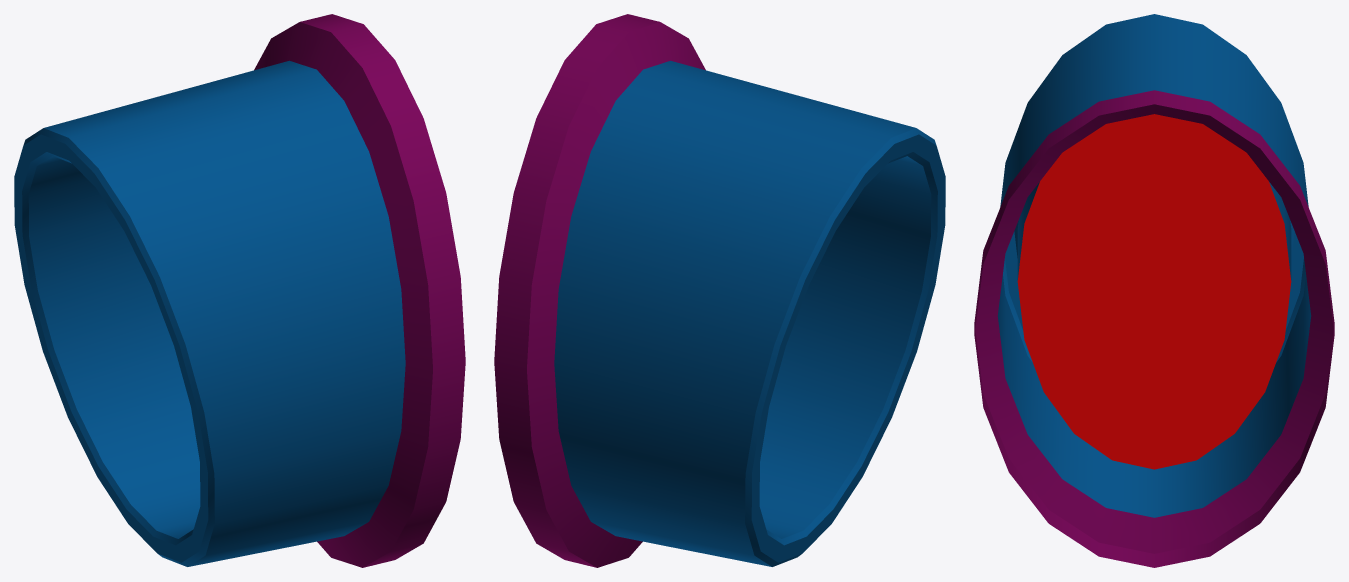
Rendered from OBJ_Lampe_Spot.fbx.
3 views of the same model, side by side, from view 1: azimuth 30°, elevation 25°; view 2: azimuth 150°, elevation 25°; view 3: azimuth 270°, elevation 25° (orthographic). The views are drawn at different scales.
Visible parts, largest first — view 1: OBJ_Lampe_spot; view 2: OBJ_Lampe_spot; view 3: OBJ_Lampe_spot.
Part boxes in pixels (<box>): OBJ_Lampe_spot: <box>14,14,465,567</box>; OBJ_Lampe_spot: <box>494,14,945,567</box>; OBJ_Lampe_spot: <box>974,14,1334,567</box>.
Bounding box in the file's own units: 502 × 845 × 595.
